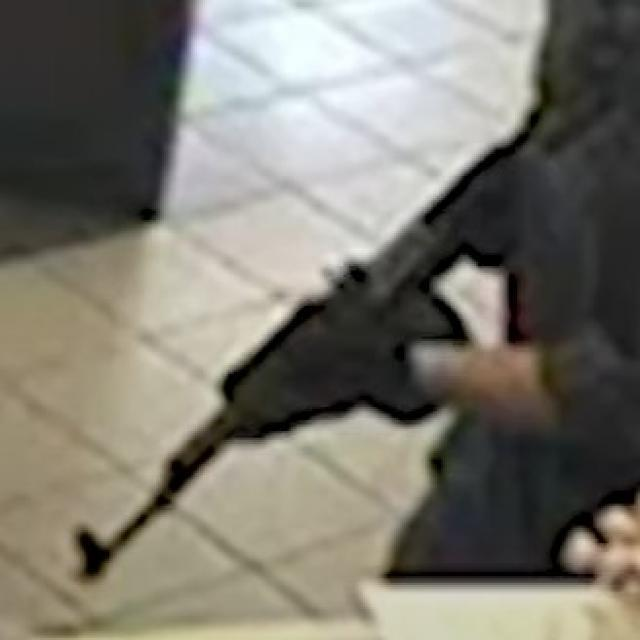weapon: (68, 79, 597, 594)
